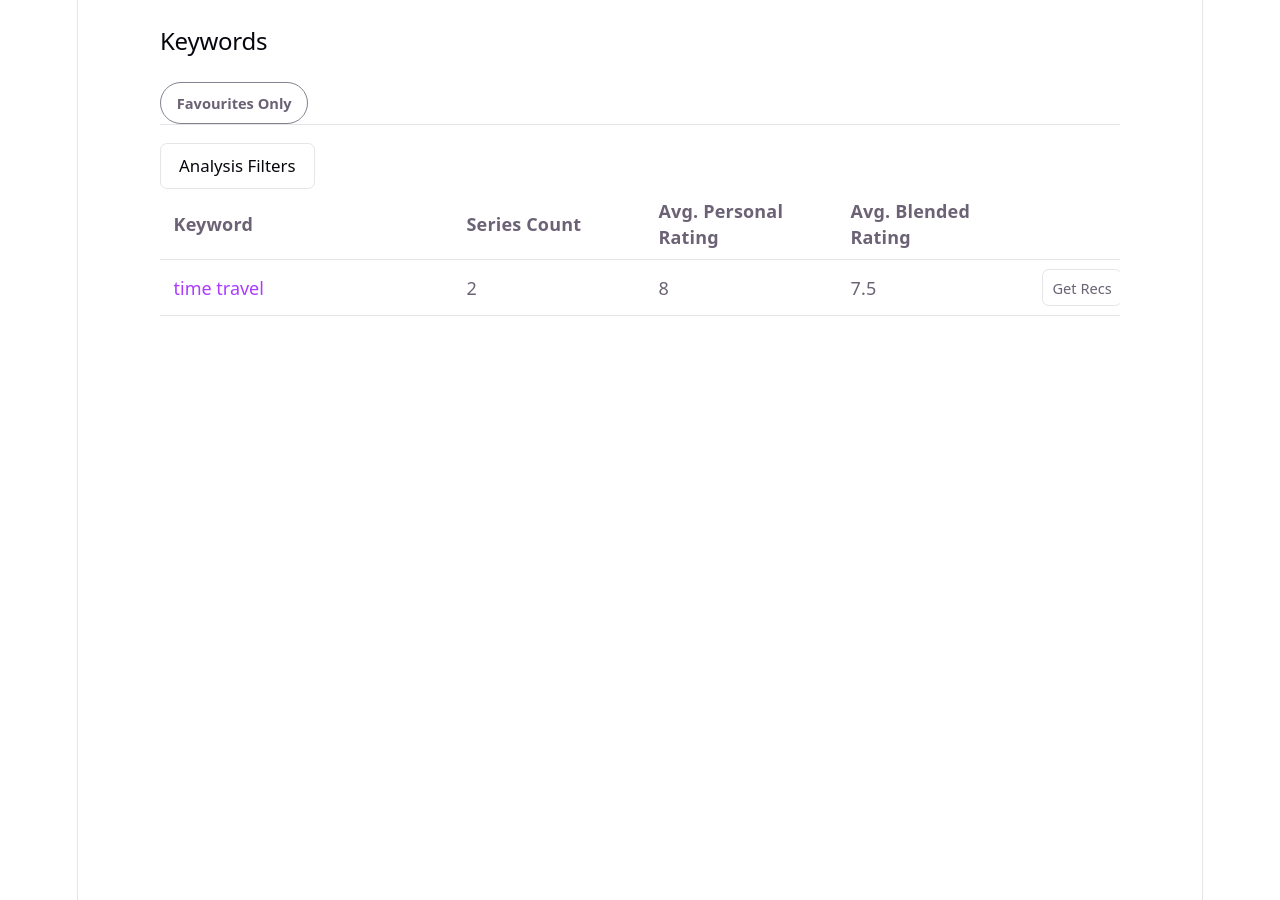
Scenario: FRONTEND-136-AC-05: KeywordsView wires the detail modal › opens KeywordDetailModal from a keyword name click
Click the button "time travel" at (219, 288), box [174, 275, 264, 301]
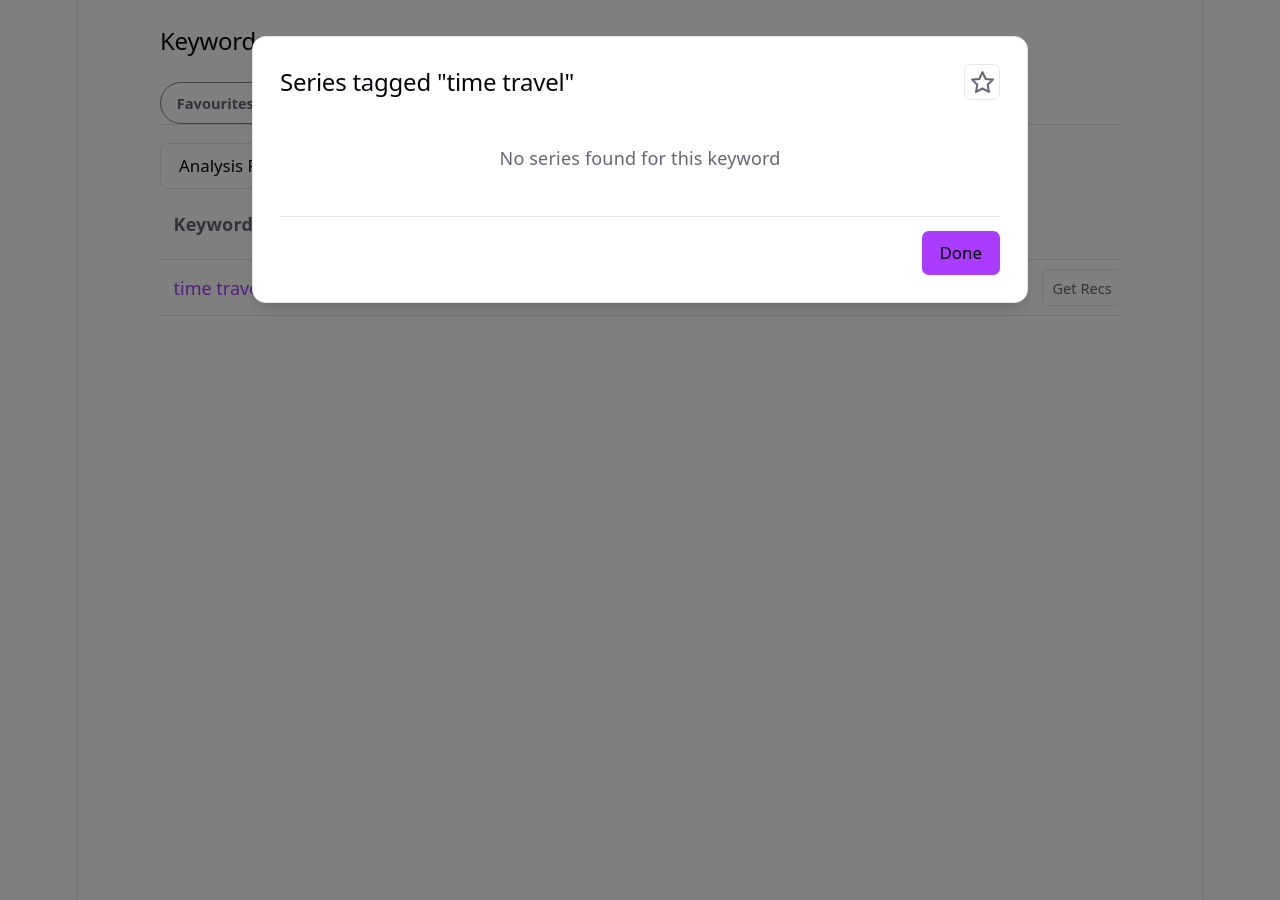
Expected: the dialog "time travel" is shown, [252, 36, 1028, 303]
